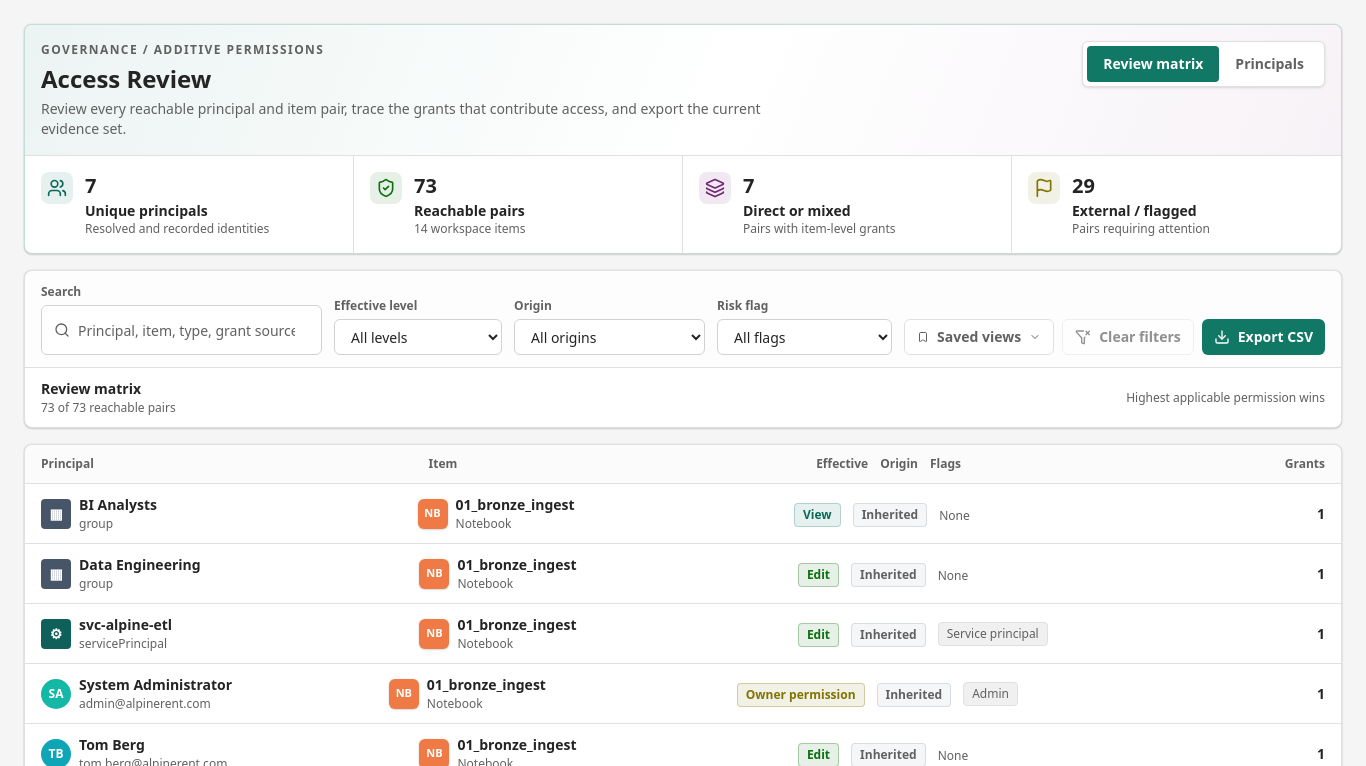
Test: AccessView › starts principal groups collapsed and expands them on click
The image size is (1366, 766).
Click the button "Principals" at (1270, 64), box [1219,46,1320,82]
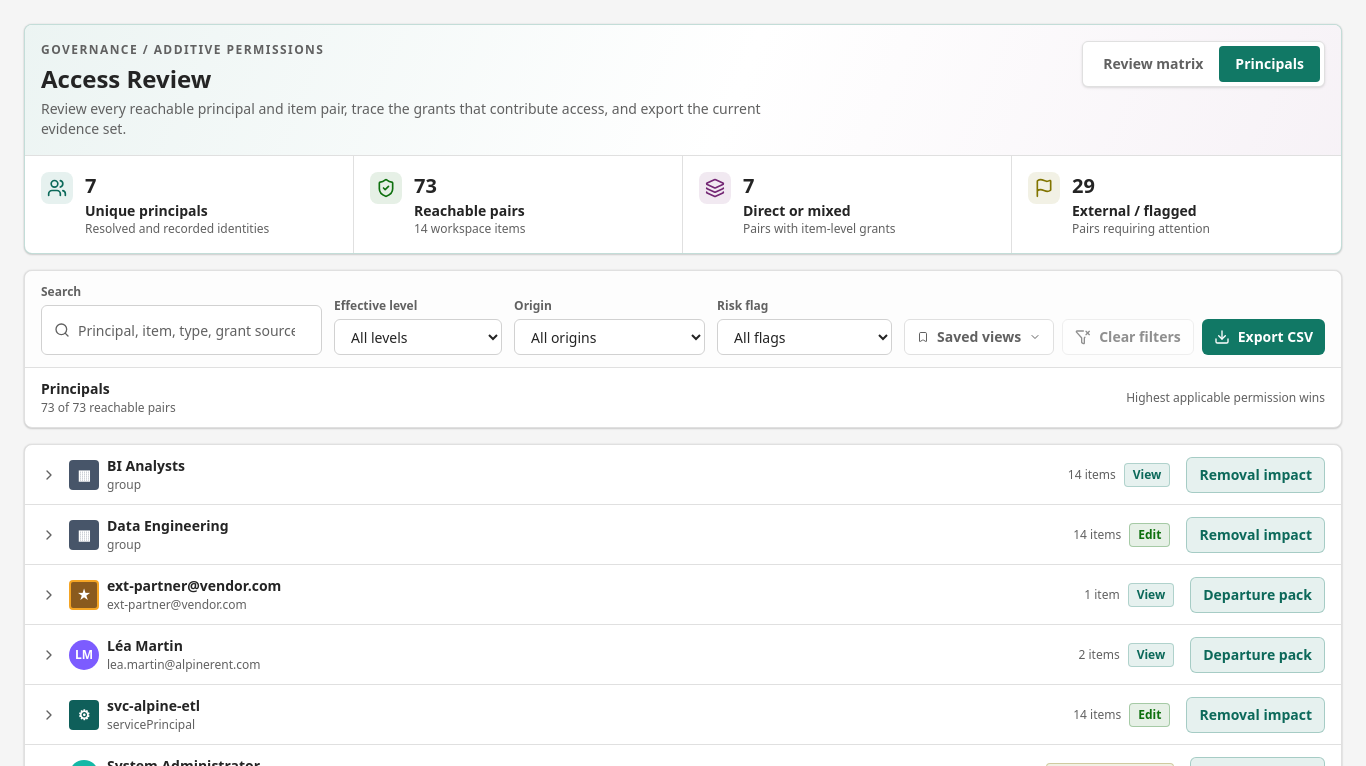
Click the button "▦ BI Analysts group 14 items View" at (146, 466), box [25,445,1186,504]
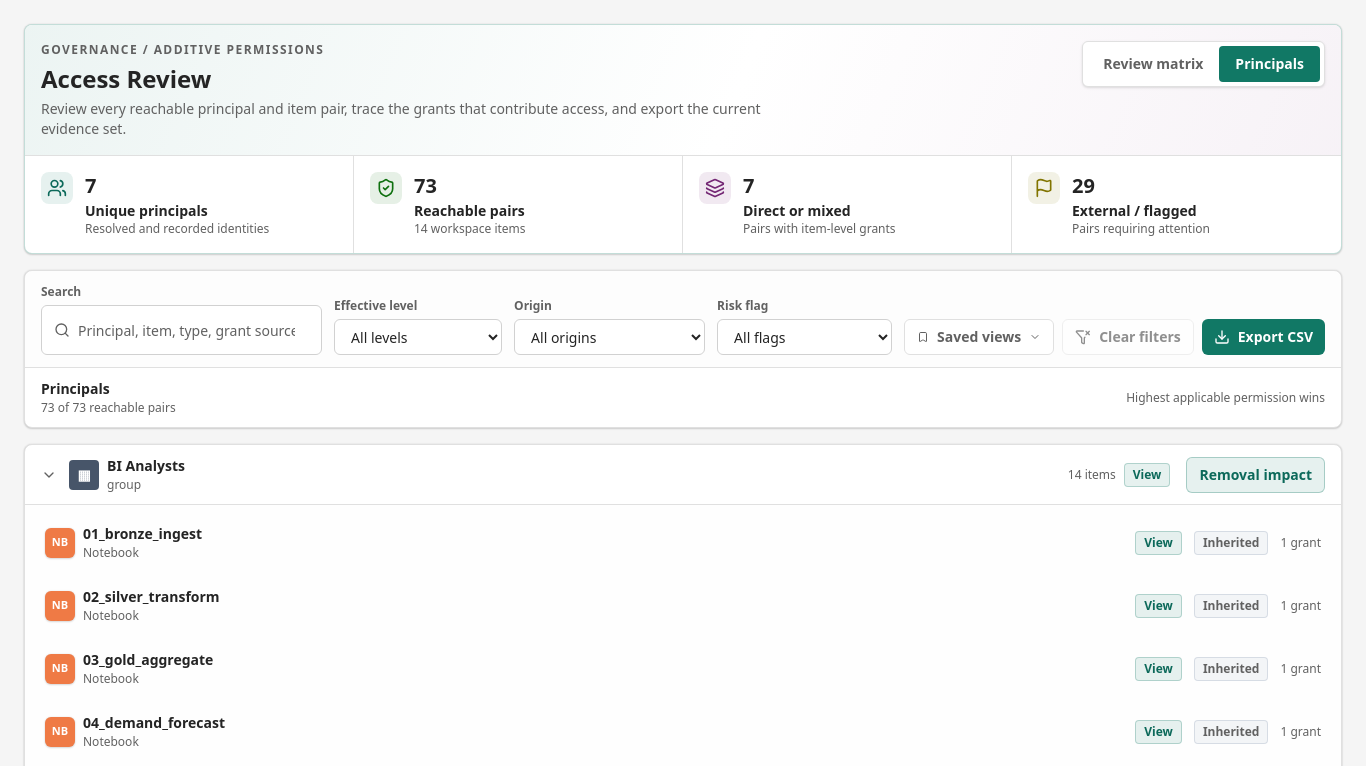
Now the button "▦ BI Analysts group 14 items View" is expanded, box [25,445,1186,504]
Now the button labelled "NB 01_bronze_ingest Notebook View Inherited 1 grant" is shown, box [33,513,1333,572]
